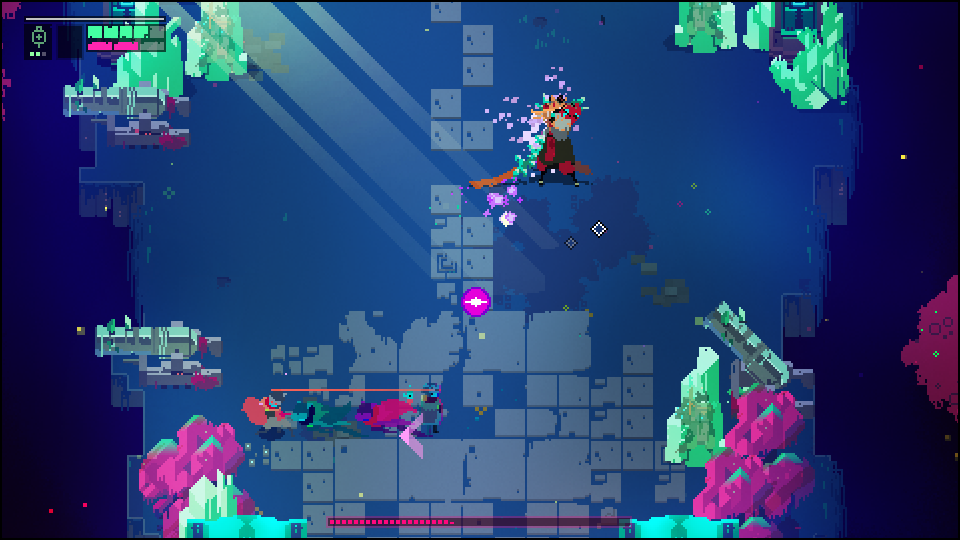hanged_man: (499, 90, 595, 190)
hanged_shot: (460, 286, 492, 319)
player: (238, 388, 297, 437)
